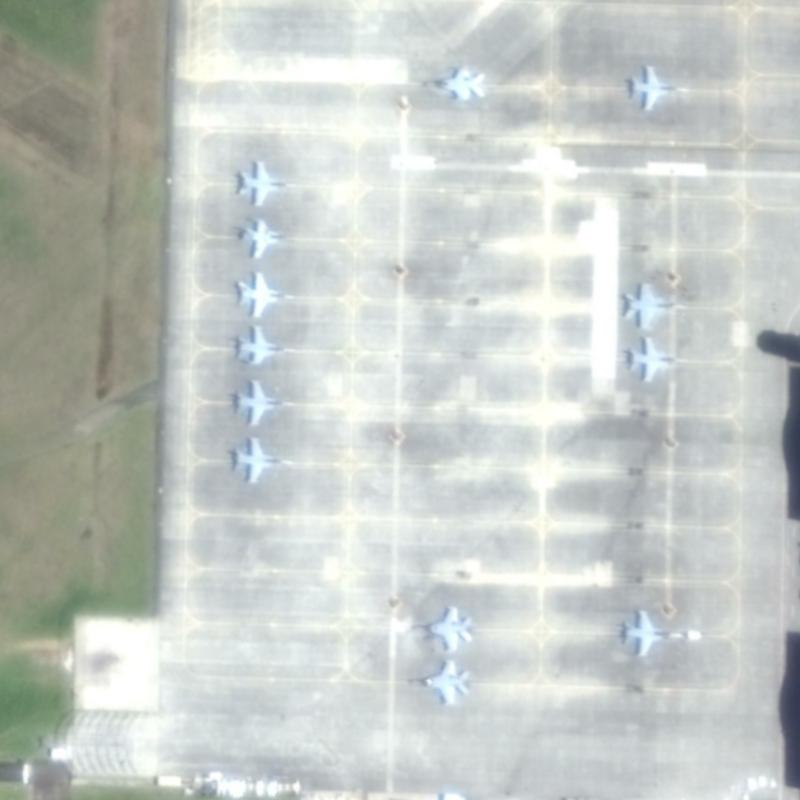A16: (609, 602, 689, 665), (399, 595, 478, 657), (392, 654, 476, 710), (227, 151, 302, 210), (620, 271, 691, 332), (225, 428, 297, 488), (225, 371, 297, 430), (231, 265, 302, 323), (620, 332, 692, 389), (411, 56, 493, 106), (620, 54, 688, 110), (231, 317, 299, 373), (235, 211, 300, 261)
